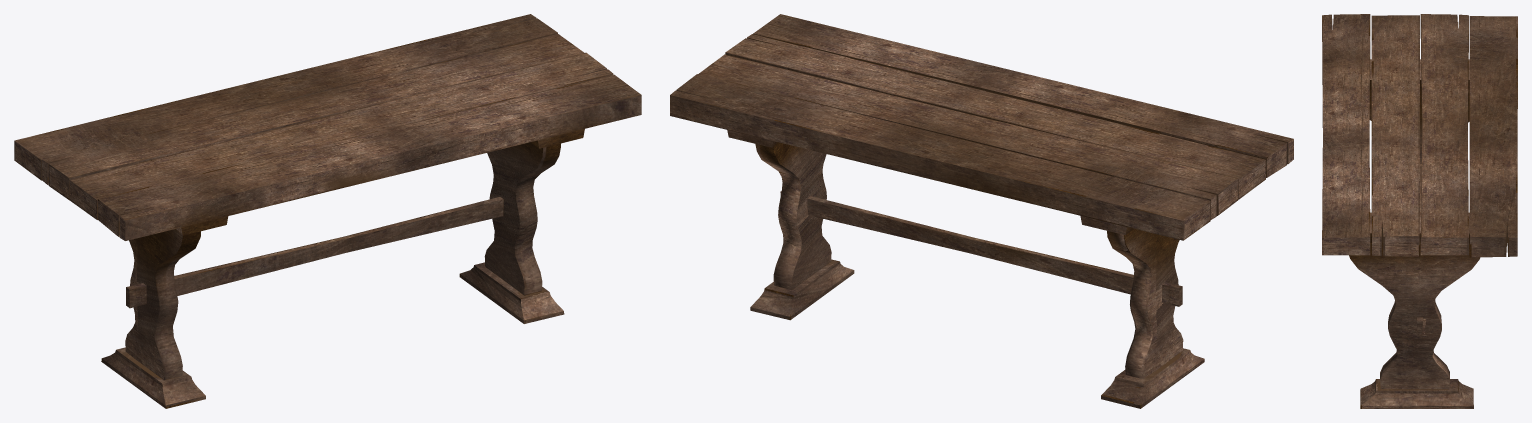
File: tavernTable.glb
3 renders of one model, left to right at view 1: azimuth 30°, elevation 25°; view 2: azimuth 150°, elevation 25°; view 3: azimuth 270°, elevation 25°, orthographic. The views are drawn at different scales.
Visible parts, largest first — view 1: TavernTable; view 2: TavernTable; view 3: TavernTable.
Boxes of the visible parts, x1,y1,x2,y2 form: TavernTable: [14, 14, 641, 408]; TavernTable: [670, 14, 1293, 408]; TavernTable: [1322, 14, 1517, 408].
Bounding box in the file's own units: 2.16 × 0.8924 × 0.8032.
1 material, 1 textured.
